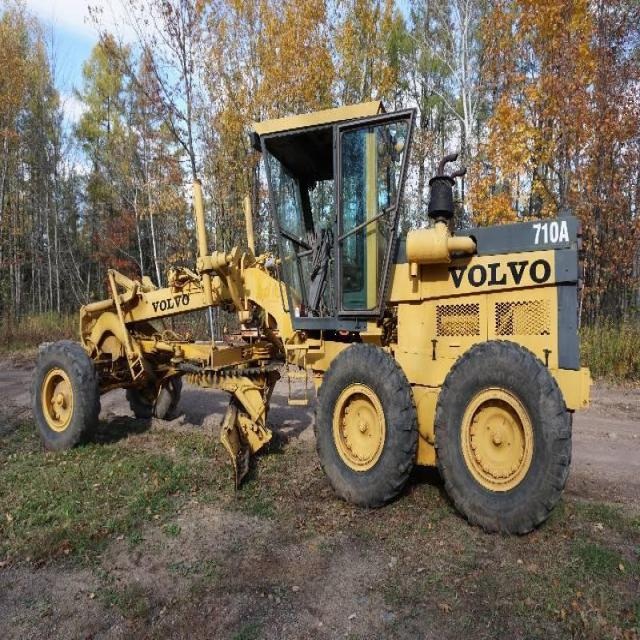Grader: (27, 91, 592, 538)
